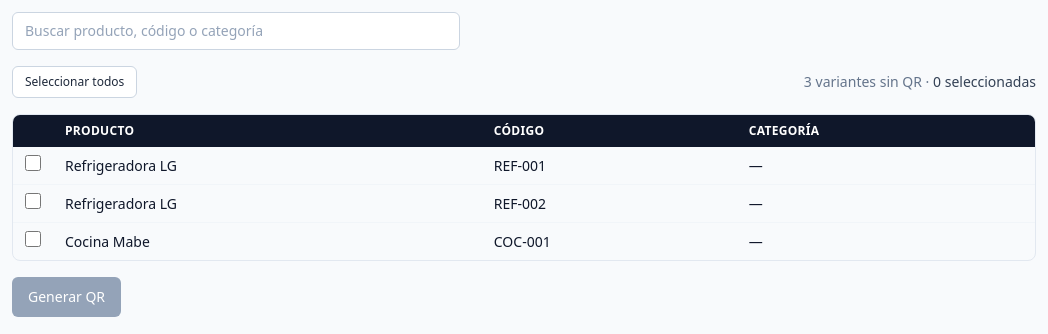
Test: BulkQrGenerator › selects individually and shows a live count
Check: the text "0 seleccionadas" is shown, box [933, 72, 1036, 91]
Click the checkbox named "seleccionar refrigeradora lg — ref-001".
click(33, 163)  # box [25, 155, 41, 171]
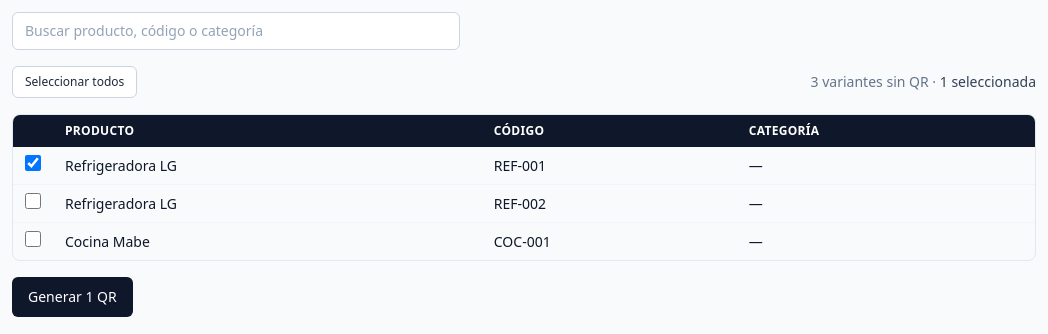
Check: the text "1 seleccionada" is shown, box [940, 72, 1036, 91]
Click the checkbox named "seleccionar cocina mabe".
click(33, 239)  # box [25, 231, 41, 247]
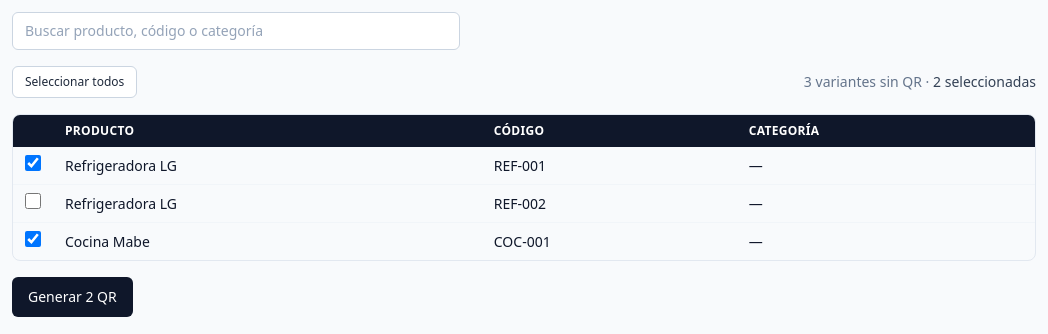
Check: the text "2 seleccionadas" is shown, box [933, 72, 1036, 91]
